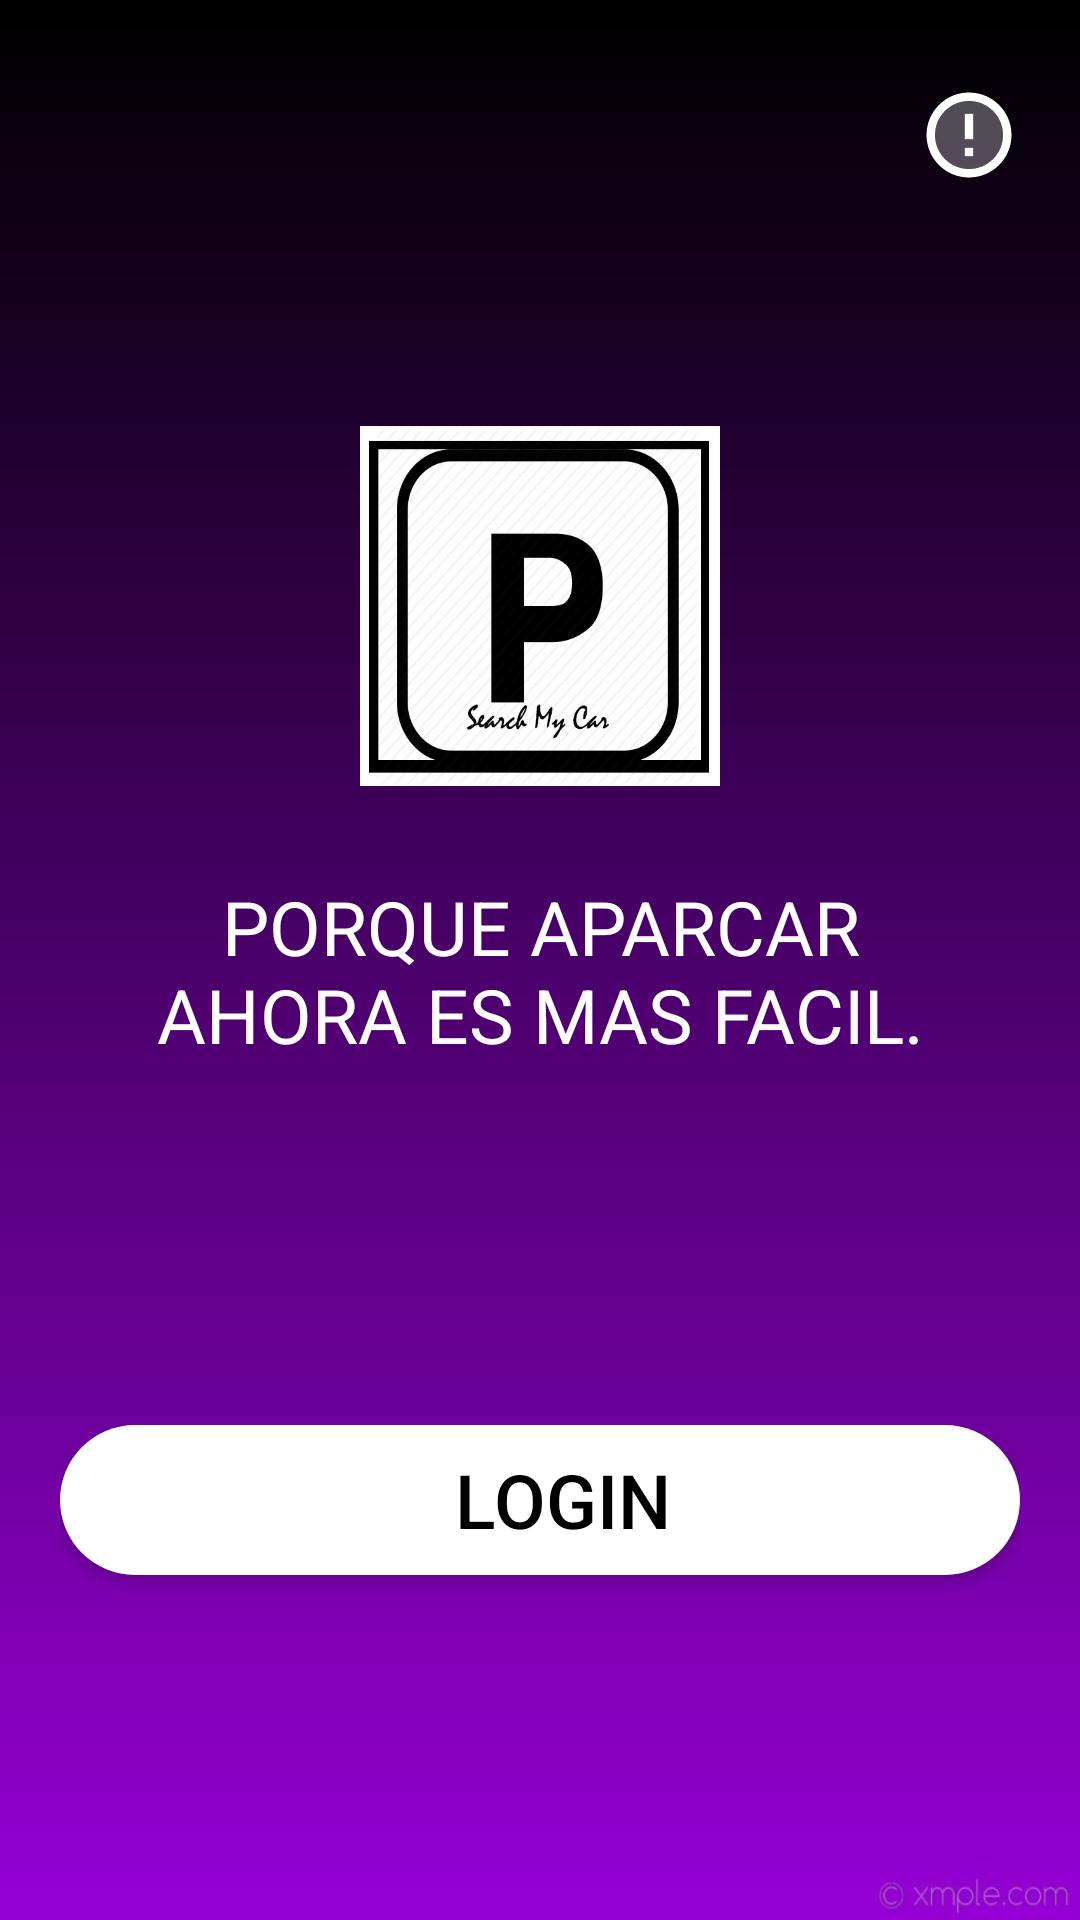

Screen size 1080w x 1920h. Icon name, then its center in pixels as (x,y):
informacion: (969,135)
